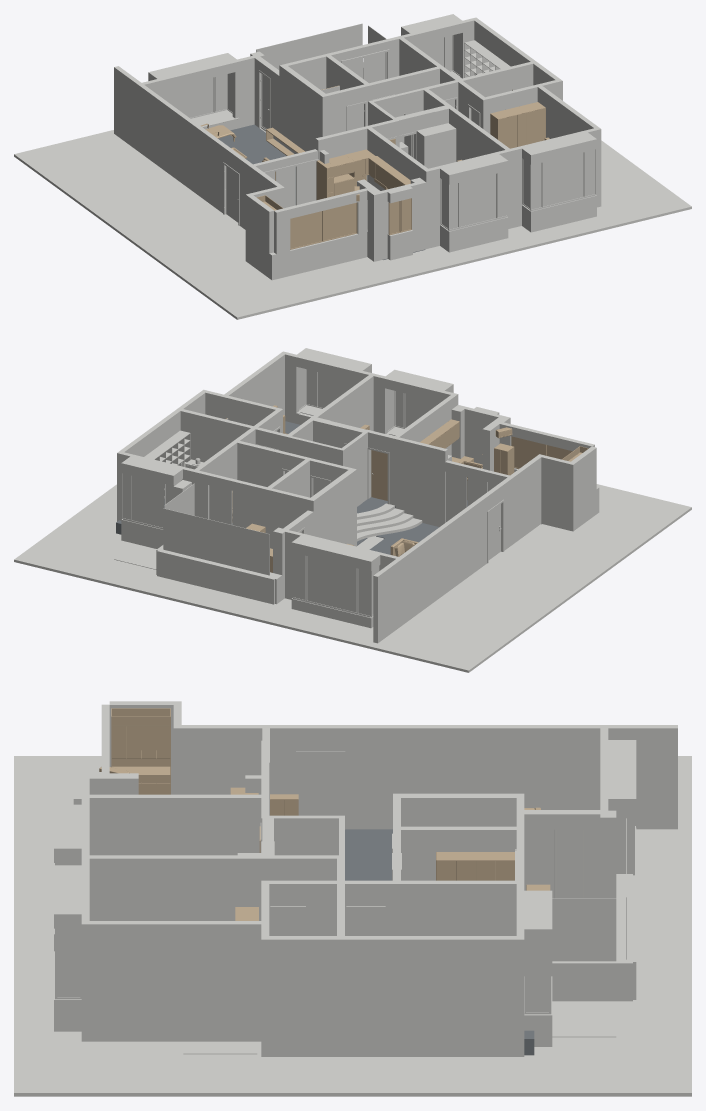
The model's file is interaction_proxy.glb.
3 views of the same model, one above another, from view 1: azimuth 30°, elevation 25°; view 2: azimuth 150°, elevation 25°; view 3: azimuth 270°, elevation 25° (orthographic). The views are drawn at different scales.
Parts seen in each view (by area): view 1: SITE_GROUND.001, VIEW_WALL_W_wall_md_0006.001, VIEW_WALL_LIVING_FIX_GUEST_BATH_FULL_WALL.001, VIEW_WALL_W_wall_md_0042.001, NORTH_BALCONY_GLASS_NORTH.001, VIEW_WALL_W_wall_md_0035.001, V4_W-MB-S_FRONT_GLASS_1.001, VIEW_WALL_W_wall_md_0034.001, V4_W-SMB-S_FRONT_GLASS_1.001, VIEW_WALL_W_wall_md_0007.001, VIEW_WALL_W_wall_md_0021.001, VIEW_WALL_W_wall_md_0030.001 (+45 smaller); view 2: SITE_GROUND.001, VIEW_WALL_W_wall_md_0006.001, NORTH_BALCONY_GLASS_NORTH.001, VIEW_WALL_W_wall_md_0044.001, VIEW_WALL_W_wall_md_0062.001, VIEW_WALL_W_wall_md_0005.001, VIEW_WALL_W_wall_md_0043.001, VIEW_WALL_LIVING_FIX_GUEST_BATH_FULL_WALL.001, LIVING_FIX_BAY_FRONT_GLASS_1.001, VIEW_WALL_W_wall_md_0049.001, VIEW_WALL_W_wall_md_0007.001, VIEW_WALL_W_wall_md_0030.001 (+49 smaller); view 3: SITE_GROUND.001, VIEW_WALL_W_wall_md_0030.001, VIEW_WALL_W_wall_md_0033.001, VIEW_WALL_W_wall_md_0006.001, VIEW_WALL_W_wall_md_0021.001, VIEW_WALL_W_wall_md_0015.001, VIEW_WALL_W_wall_md_0032.001, VIEW_WALL_W_wall_md_0005.001, VIEW_WALL_W_wall_md_0025.001, VIEW_WALL_W_wall_md_0007.001, NORTH_BALCONY_GLASS_EAST.001, VIEW_WALL_W_wall_md_0019.001 (+38 smaller).
Boxes of the visible parts, box(x1,y1,x2,y2) form: SITE_GROUND.001: box(14, 128, 691, 319); VIEW_WALL_W_wall_md_0006.001: box(139, 85, 227, 212); VIEW_WALL_LIVING_FIX_GUEST_BATH_FULL_WALL.001: box(282, 66, 325, 153); VIEW_WALL_W_wall_md_0042.001: box(276, 232, 367, 278); NORTH_BALCONY_GLASS_NORTH.001: box(256, 23, 362, 69); VIEW_WALL_W_wall_md_0035.001: box(533, 139, 594, 231); V4_W-MB-S_FRONT_GLASS_1.001: box(543, 152, 583, 206); VIEW_WALL_W_wall_md_0034.001: box(451, 161, 505, 251); V4_W-SMB-S_FRONT_GLASS_1.001: box(460, 174, 496, 226); VIEW_WALL_W_wall_md_0007.001: box(114, 66, 141, 150); VIEW_WALL_W_wall_md_0021.001: box(449, 107, 509, 161); VIEW_WALL_W_wall_md_0030.001: box(537, 86, 598, 138); SITE_GROUND.001: box(14, 484, 691, 672); VIEW_WALL_W_wall_md_0006.001: box(399, 495, 487, 624); NORTH_BALCONY_GLASS_NORTH.001: box(163, 508, 269, 575); VIEW_WALL_W_wall_md_0044.001: box(396, 437, 441, 526); VIEW_WALL_W_wall_md_0062.001: box(157, 548, 277, 604); VIEW_WALL_W_wall_md_0005.001: box(499, 456, 541, 550); VIEW_WALL_W_wall_md_0043.001: box(541, 455, 575, 531); VIEW_WALL_LIVING_FIX_GUEST_BATH_FULL_WALL.001: box(311, 470, 354, 545); LIVING_FIX_BAY_FRONT_GLASS_1.001: box(307, 556, 356, 612); VIEW_WALL_W_wall_md_0049.001: box(180, 409, 253, 462); VIEW_WALL_W_wall_md_0007.001: box(373, 559, 400, 643); VIEW_WALL_W_wall_md_0030.001: box(224, 353, 284, 415); SITE_GROUND.001: box(14, 756, 691, 1096); VIEW_WALL_W_wall_md_0030.001: box(89, 921, 261, 1041); VIEW_WALL_W_wall_md_0033.001: box(345, 936, 516, 1056); VIEW_WALL_W_wall_md_0006.001: box(345, 725, 600, 829); VIEW_WALL_W_wall_md_0021.001: box(89, 855, 261, 920); VIEW_WALL_W_wall_md_0015.001: box(89, 794, 261, 855); VIEW_WALL_W_wall_md_0032.001: box(261, 936, 336, 1056); VIEW_WALL_W_wall_md_0005.001: box(181, 725, 296, 794); VIEW_WALL_W_wall_md_0025.001: box(401, 880, 516, 935); VIEW_WALL_W_wall_md_0007.001: box(608, 725, 677, 829); NORTH_BALCONY_GLASS_EAST.001: box(552, 898, 616, 961); VIEW_WALL_W_wall_md_0019.001: box(401, 826, 516, 880).
Bounding box in the file's own units: 20 × 3.37 × 17.
